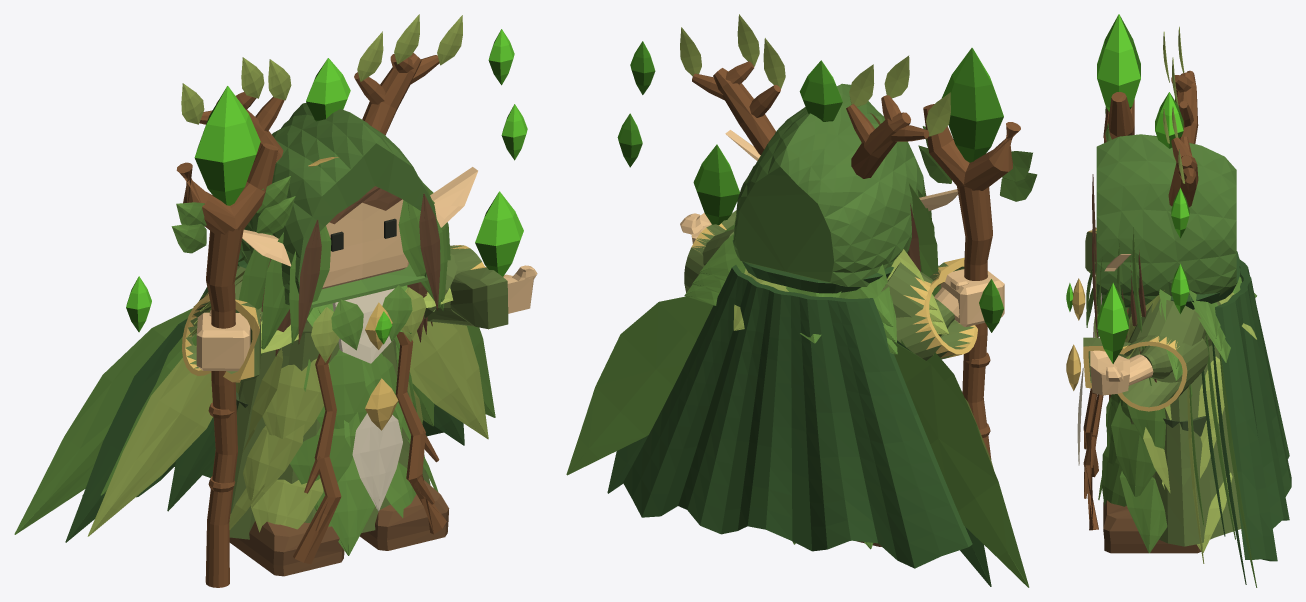
The model's file is mothernature.glb.
3 renders of one model, left to right at view 1: azimuth 30°, elevation 25°; view 2: azimuth 150°, elevation 25°; view 3: azimuth 270°, elevation 25°, orthographic. The views are drawn at different scales.
Parts seen in each view (by area): view 1: Hood — peaked source fold facets and closed fitted inner cav, RIGHT outer diagonal cloak leaf fan 2, RIGHT staff — connected bent living wood shaft, RIGHT cloak overlapping long leaf fold 4, LEFT outer diagonal cloak leaf fan 2, Robe — connected shaped bell with coherent radial cloth fold, Staff source primary large faceted focus, Head — one continuous bevelled jaw cheek forehead and concea, LEFT nature arm — full outer sleeve with open fitted wrist c, RIGHT cloak overlapping long leaf fold 3, RIGHT boot — broad source angular toe ankle and fitted shaft, Mother Nature layered long gown leaf 0 8 (+49 smaller); view 2: Cape — connected draped folded rear fabric with source scall, Hood — peaked source fold facets and closed fitted inner cav, LEFT cloak overlapping long leaf fold 4, RIGHT cloak overlapping long leaf fold 4, RIGHT staff arm — full outer sleeve with open fitted wrist c, RIGHT staff — connected bent living wood shaft, Staff source primary large faceted focus, LEFT palm supported green focus, RIGHT staff arm hand — compact source grip palm and thumb so, LEFT antler — shaped main branch, RIGHT antler — shaped main branch, RIGHT staff fork — substantial tapering wood branch (+20 smaller); view 3: Hood — peaked source fold facets and closed fitted inner cav, Cape — connected draped folded rear fabric with source scall, Robe — connected shaped bell with coherent radial cloth fold, LEFT nature arm — full outer sleeve with open fitted wrist c, Staff source primary large faceted focus, LEFT boot — broad source angular toe ankle and fitted shaft, Mother Nature layered long gown leaf 1 5, LEFT nature arm hand — connected planar source palm wrist an, Mother Nature layered long gown leaf 2 5, LEFT palm supported green focus, Mother Nature layered long gown leaf 0 4, Mother Nature layered long gown leaf 1 4 (+27 smaller).
Part boxes in pixels (x1=…): Hood — peaked source fold facets and closed fitted inner cav: x1=239, y1=103, x2=440, y2=308; RIGHT outer diagonal cloak leaf fan 2: x1=87, y1=345, x2=212, y2=536; RIGHT staff — connected bent living wood shaft: x1=205, y1=228, x2=243, y2=587; RIGHT cloak overlapping long leaf fold 4: x1=14, y1=308, x2=192, y2=534; LEFT outer diagonal cloak leaf fan 2: x1=409, y1=321, x2=488, y2=439; Robe — connected shaped bell with coherent radial cloth fold: x1=229, y1=319, x2=430, y2=539; Staff source primary large faceted focus: x1=194, y1=86, x2=260, y2=205; Head — one continuous bevelled jaw cheek forehead and concea: x1=322, y1=199, x2=408, y2=289; LEFT nature arm — full outer sleeve with open fitted wrist c: x1=424, y1=245, x2=508, y2=329; RIGHT cloak overlapping long leaf fold 3: x1=65, y1=318, x2=187, y2=542; RIGHT boot — broad source angular toe ankle and fitted shaft: x1=229, y1=521, x2=344, y2=576; Mother Nature layered long gown leaf 0 8: x1=262, y1=358, x2=329, y2=438; Cape — connected draped folded rear fabric with source scall: x1=623, y1=265, x2=972, y2=568; Hood — peaked source fold facets and closed fitted inner cav: x1=733, y1=83, x2=925, y2=286; LEFT cloak overlapping long leaf fold 4: x1=566, y1=296, x2=713, y2=475; RIGHT cloak overlapping long leaf fold 4: x1=892, y1=340, x2=1029, y2=587; RIGHT staff arm — full outer sleeve with open fitted wrist c: x1=881, y1=257, x2=977, y2=360; RIGHT staff — connected bent living wood shaft: x1=957, y1=186, x2=992, y2=459; Staff source primary large faceted focus: x1=941, y1=47, x2=1003, y2=162; LEFT palm supported green focus: x1=693, y1=144, x2=739, y2=225; RIGHT staff arm hand — compact source grip palm and thumb so: x1=934, y1=269, x2=1004, y2=326; LEFT antler — shaped main branch: x1=713, y1=68, x2=775, y2=154; RIGHT antler — shaped main branch: x1=851, y1=112, x2=910, y2=178; RIGHT staff fork — substantial tapering wood branch: x1=962, y1=122, x2=1020, y2=190; Hood — peaked source fold facets and closed fitted inner cav: x1=1096, y1=134, x2=1236, y2=307; Cape — connected draped folded rear fabric with source scall: x1=1215, y1=259, x2=1291, y2=561; Robe — connected shaped bell with coherent radial cloth fold: x1=1126, y1=307, x2=1240, y2=546; LEFT nature arm — full outer sleeve with open fitted wrist c: x1=1083, y1=299, x2=1208, y2=411; Staff source primary large faceted focus: x1=1097, y1=14, x2=1140, y2=111; LEFT boot — broad source angular toe ankle and fitted shaft: x1=1103, y1=500, x2=1201, y2=553; Mother Nature layered long gown leaf 1 5: x1=1111, y1=400, x2=1155, y2=497; LEFT nature arm hand — connected planar source palm wrist an: x1=1090, y1=350, x2=1153, y2=395; Mother Nature layered long gown leaf 2 5: x1=1120, y1=471, x2=1167, y2=553; LEFT palm supported green focus: x1=1097, y1=283, x2=1128, y2=363; Mother Nature layered long gown leaf 0 4: x1=1165, y1=356, x2=1224, y2=443; Mother Nature layered long gown leaf 1 4: x1=1143, y1=427, x2=1216, y2=493.
Size of the model in its own units: 1.18 by 1.16 by 0.5327.
